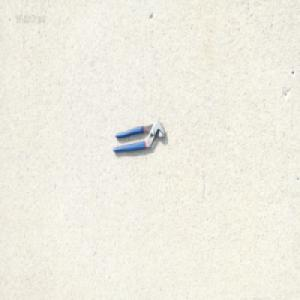Pliers: (111, 119, 166, 154)
